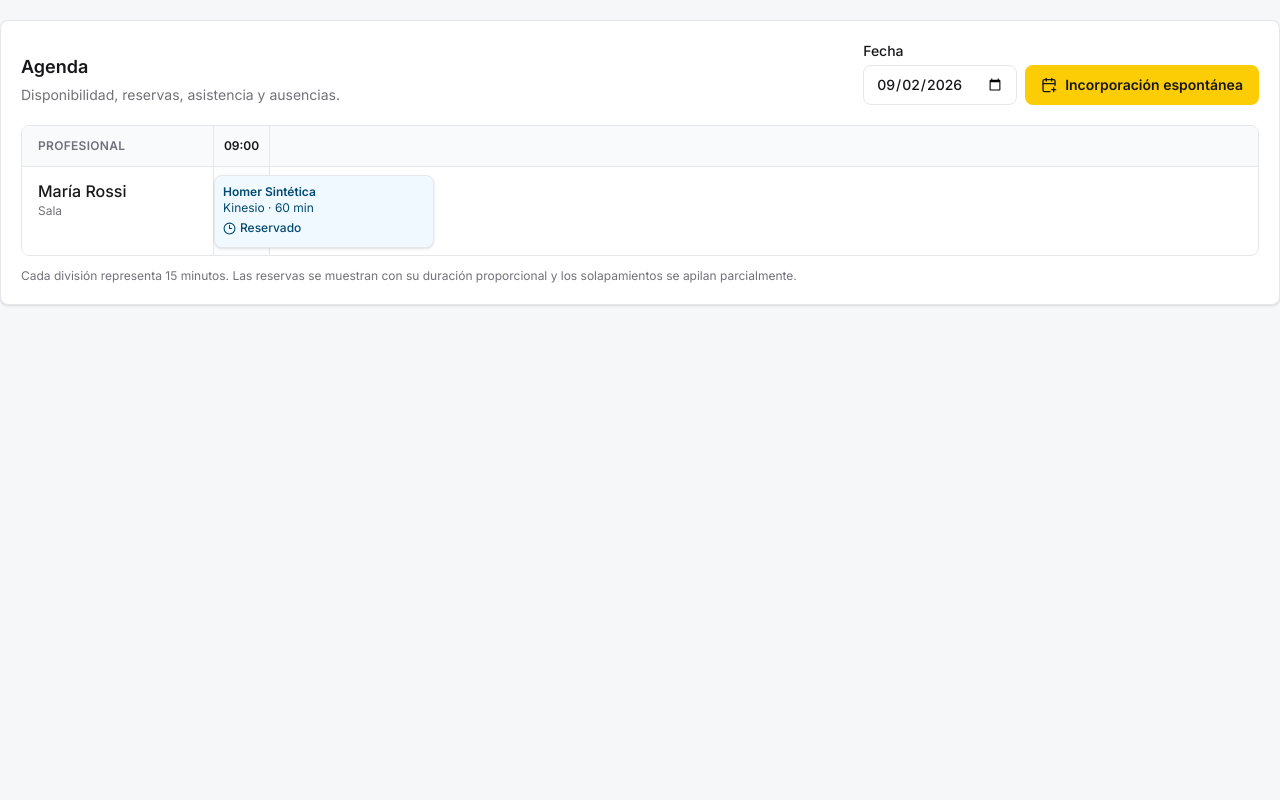
Test: keeps direct initial actions for RESERVED
Click the button with aria-label "Homer Sintética 09:00 Reservado". click: coordinates (324, 211)
box: left=214, top=175, right=434, bottom=248
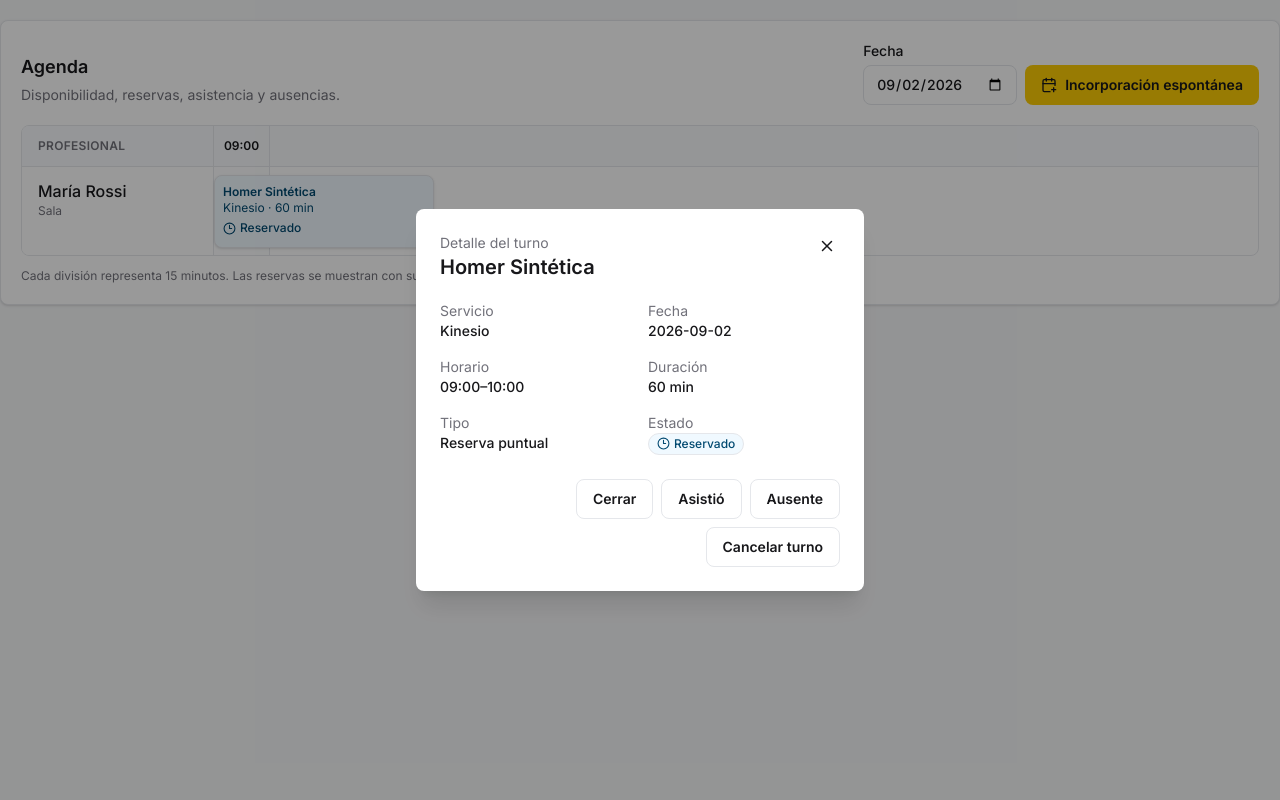
Now the button "Asistió" is shown, box left=661, top=479, right=742, bottom=519
Now the button "Ausente" is shown, box left=750, top=479, right=840, bottom=519
Now the button "Cancelar turno" is shown, box left=706, top=527, right=840, bottom=567
